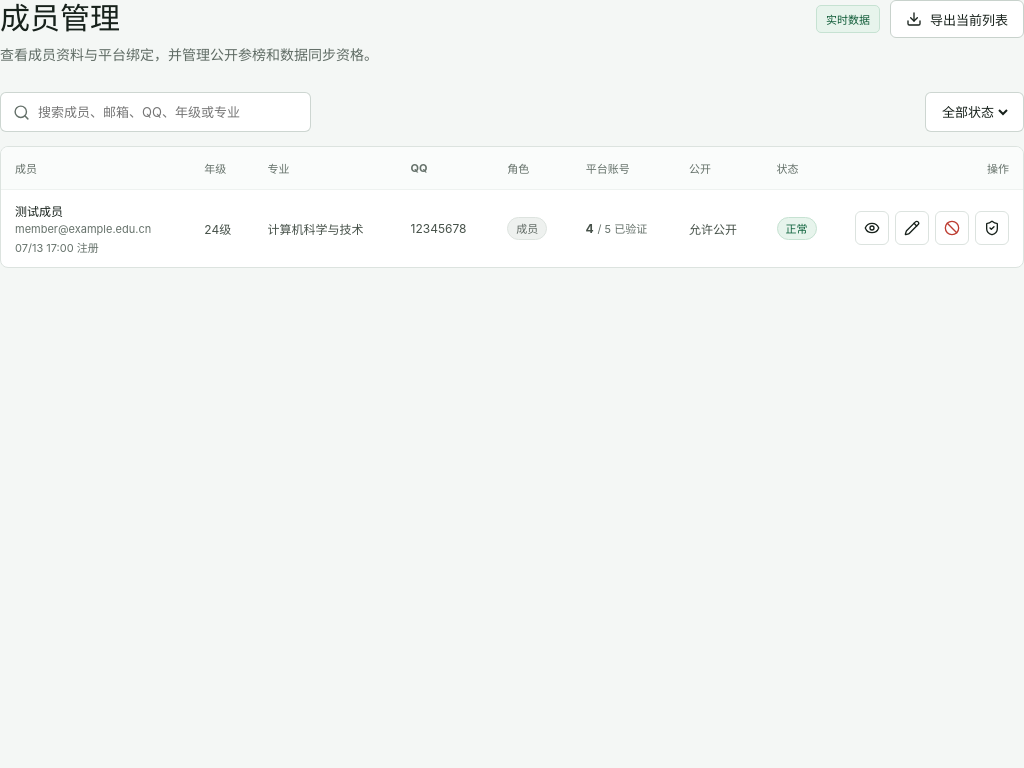
Test: AdminMembersPage with Supabase configured › lets an administrator edit member profile fields
Click the button named "编辑 测试成员".
click(912, 228)  # box [895,211,929,245]
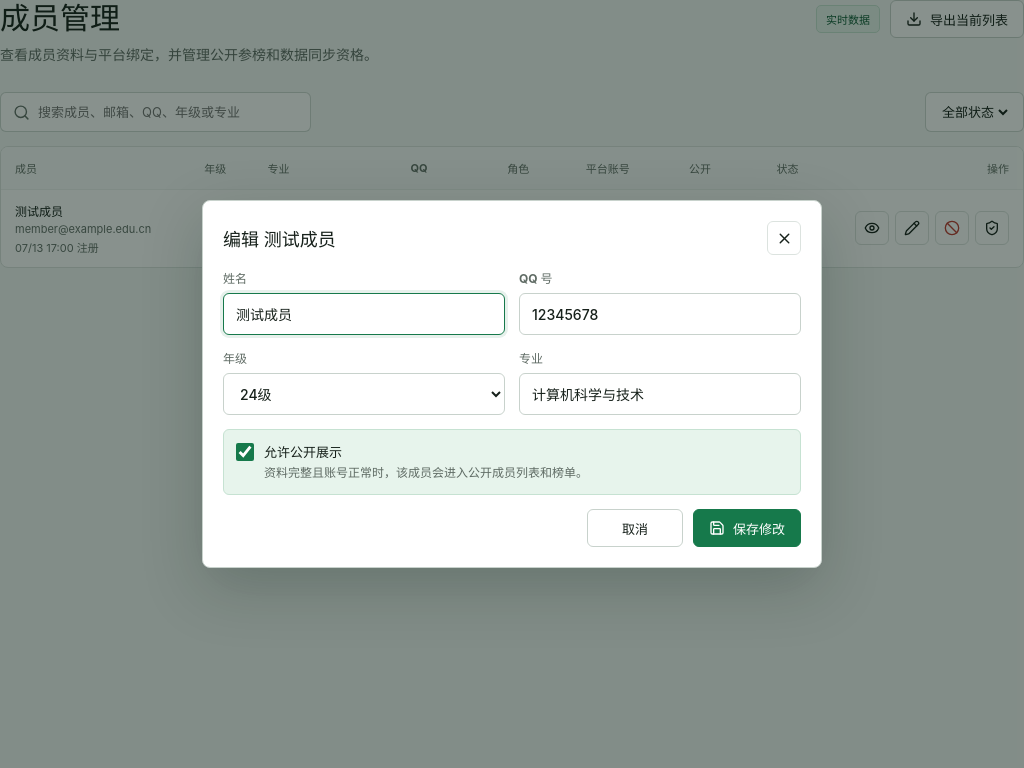
Replace the text in the field labelled "姓名" with "更新成员" at [364, 314], box [223,293,505,335]
Replace the text in the field labelled "QQ 号" with "22345678" at [660, 314], box [519,293,801,335]
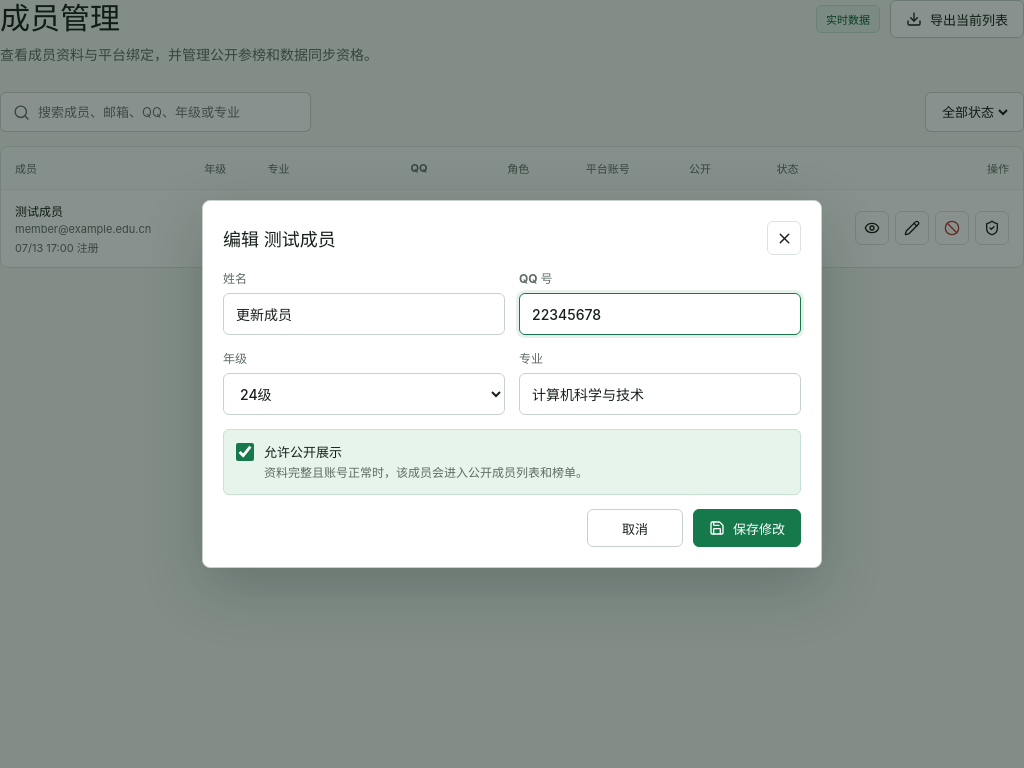
Select "25级" in the dropdown labelled "年级" at [364, 394], box [223,373,505,415]
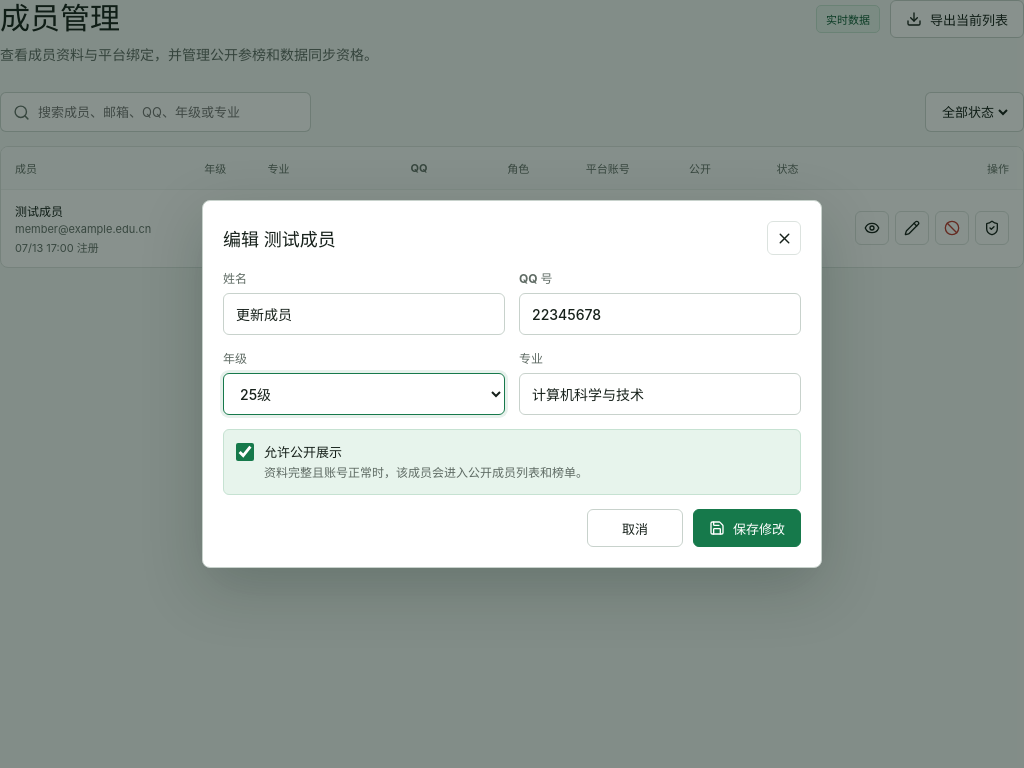
Replace the text in the field labelled "专业" with "人工智能" at [660, 394], box [519,373,801,415]
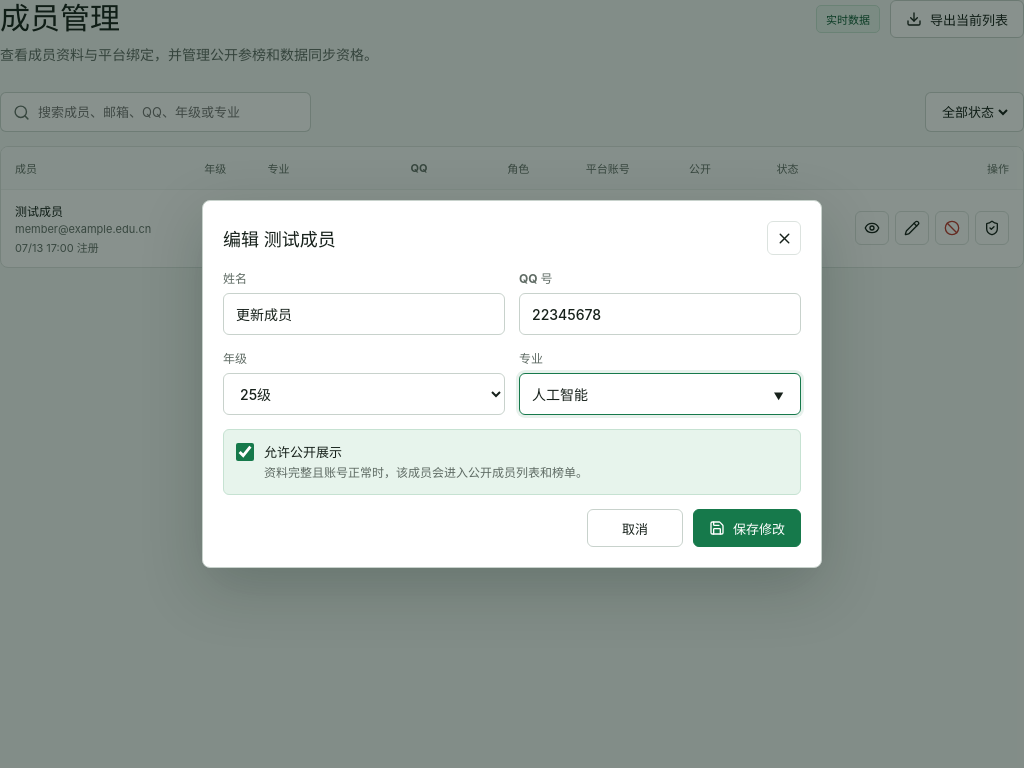
Click the checkbox labelled "允许公开展示 资料完整且账号正常时，该成员会进入公开成员列表和榜单。".
click(245, 452)  # box [236,443,254,461]
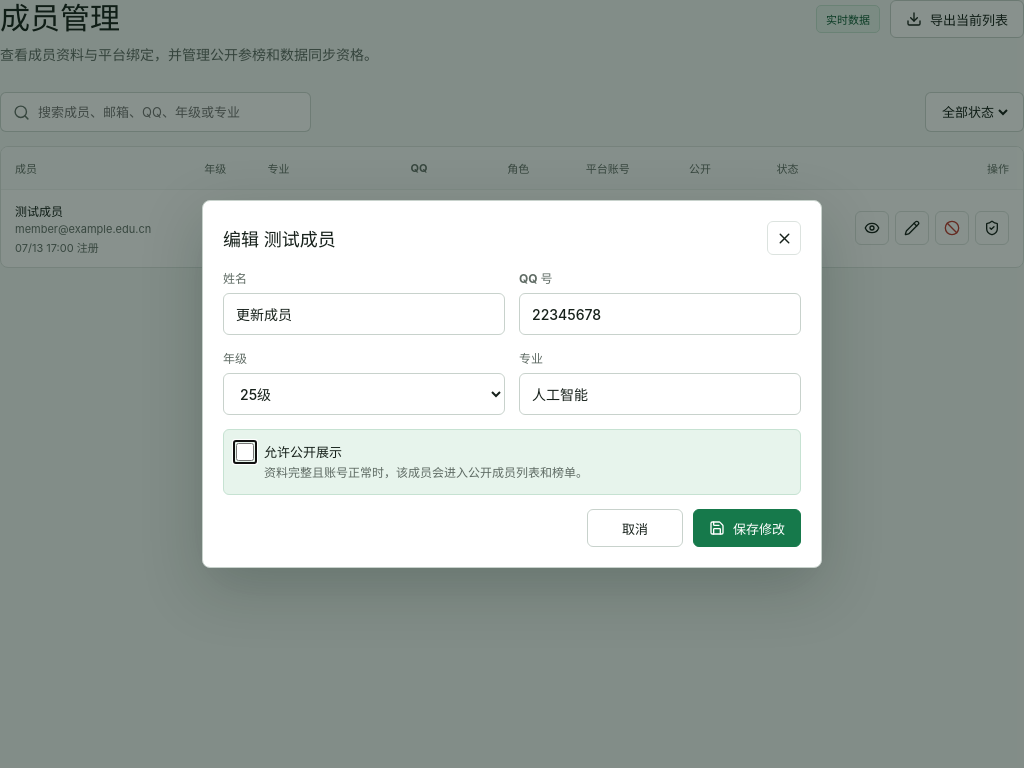
Click the button "保存修改".
click(747, 528)  # box [693,509,801,547]
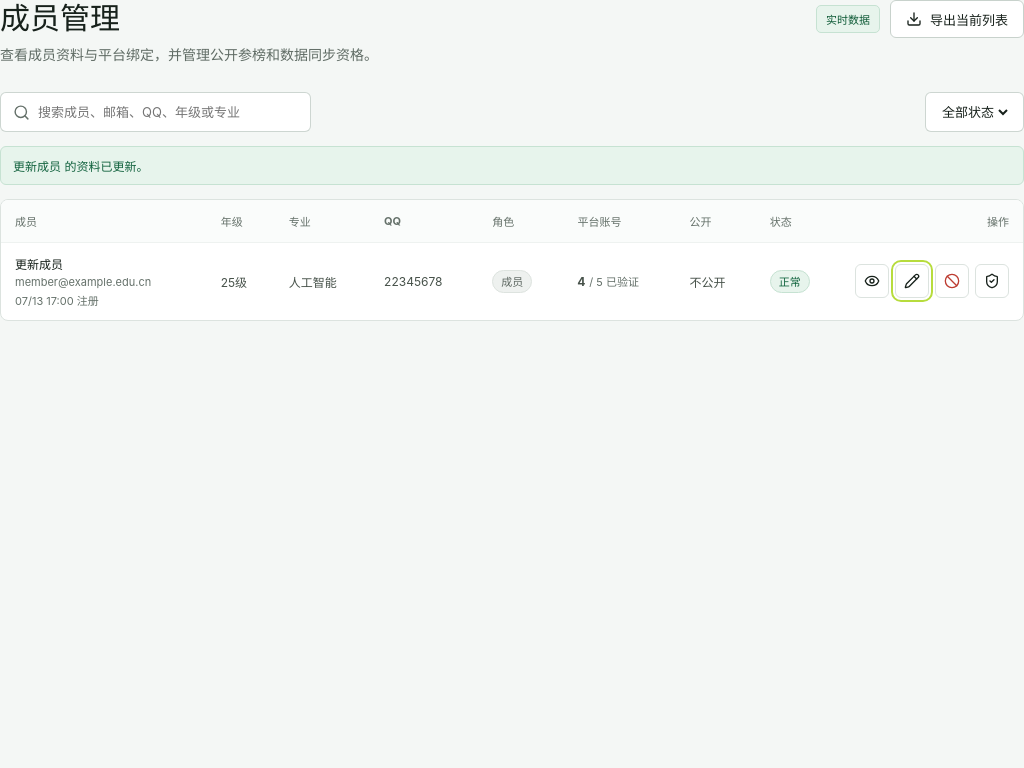
Expected: the text "更新成员" is shown, [15,257,63,272]
Expected: the text "25级" is shown, [207,242,275,320]
Expected: the text "人工智能" is shown, [275,242,370,320]
